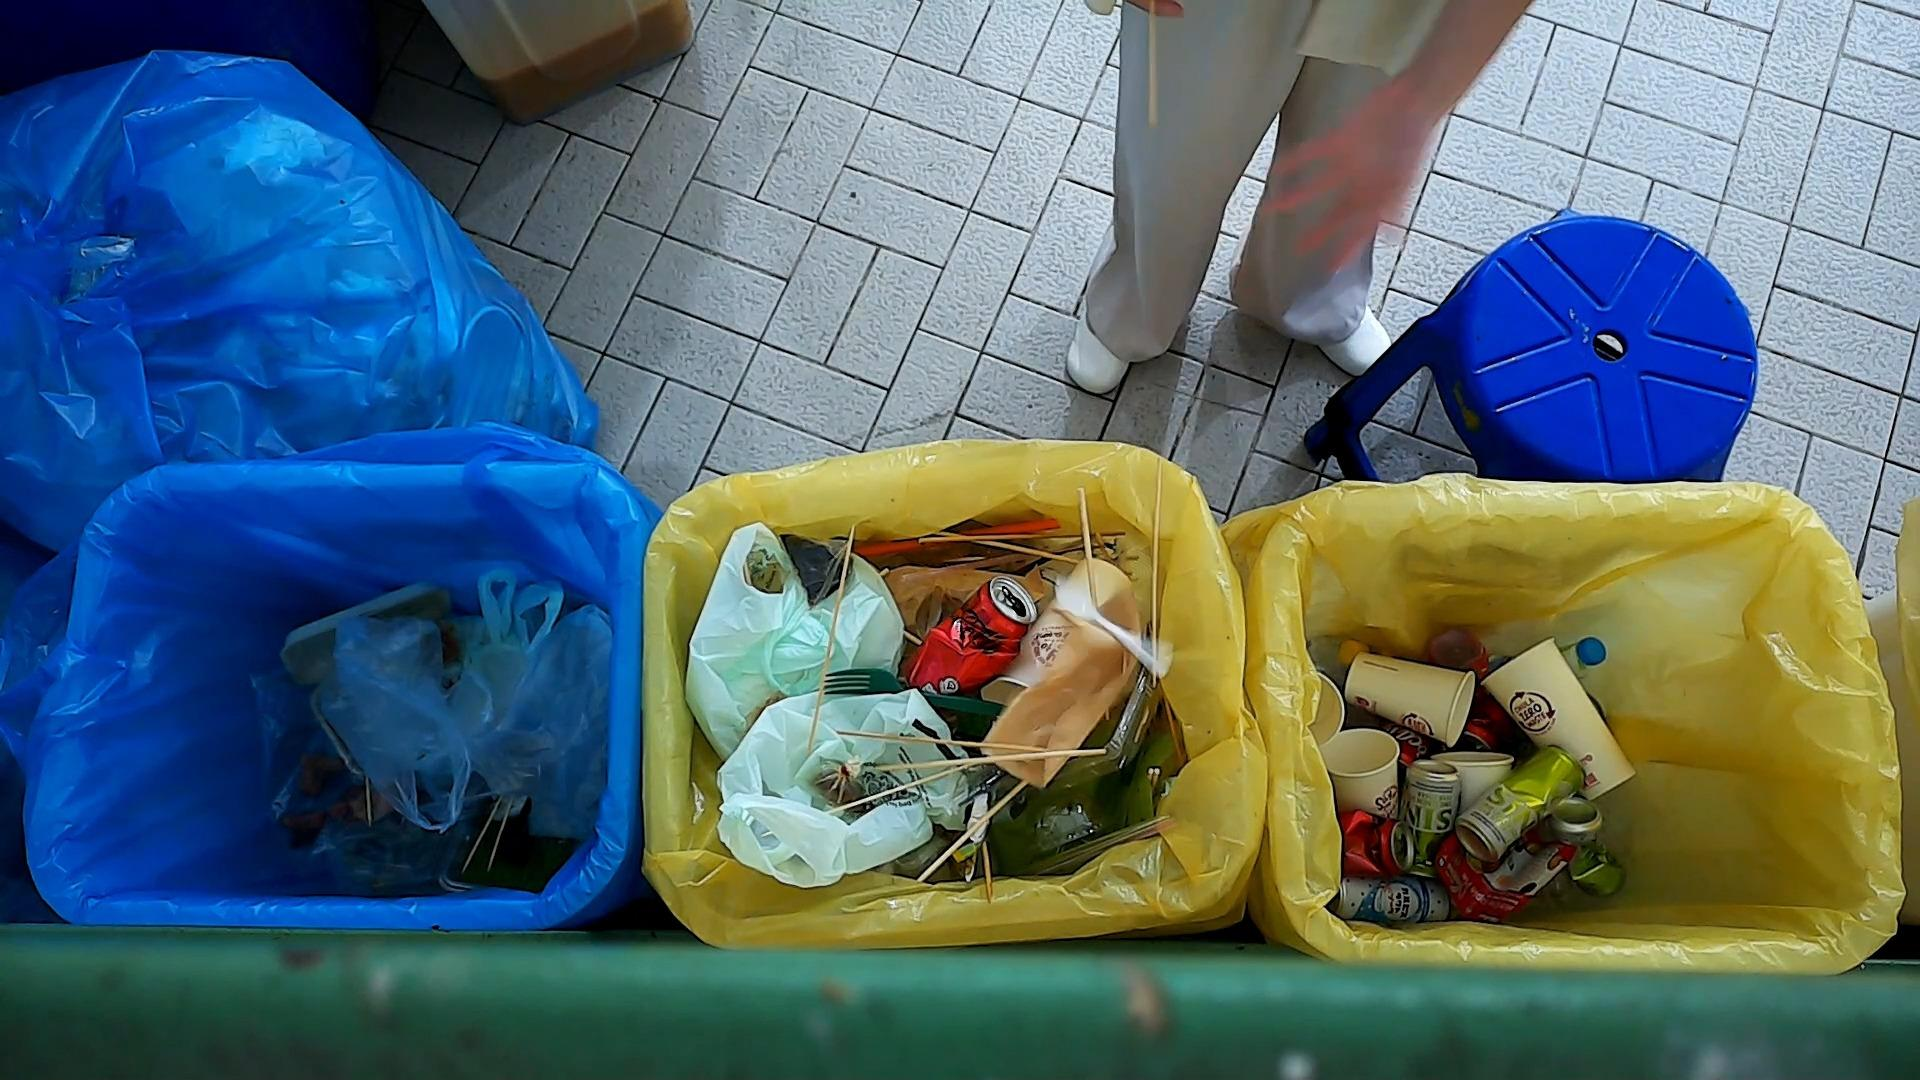can: (903, 571, 1040, 703), (1451, 740, 1590, 868), (1544, 793, 1633, 902), (1396, 753, 1462, 882), (1331, 873, 1452, 927), (1335, 804, 1419, 881)
filled plastic bag: (679, 517, 914, 760), (305, 605, 485, 841)
paper bag: (976, 582, 1146, 794), (886, 559, 1052, 644)
plastic bag: (709, 683, 982, 897), (419, 599, 617, 845)
plastic cutlery: (1052, 571, 1179, 683), (822, 666, 1014, 728)
snack packaging: (1431, 823, 1580, 924)
sticks: (802, 521, 860, 761), (913, 774, 1029, 886), (822, 765, 971, 815), (876, 746, 1110, 774), (835, 728, 1035, 758), (931, 527, 1080, 567), (915, 525, 1131, 547), (1149, 455, 1167, 690), (459, 793, 506, 876), (1075, 483, 1100, 617), (1143, 0, 1162, 132), (485, 796, 516, 876)
straw: (898, 550, 1033, 584)
zero waste cup: (1477, 633, 1639, 804), (1341, 646, 1480, 749), (1319, 725, 1404, 822)
